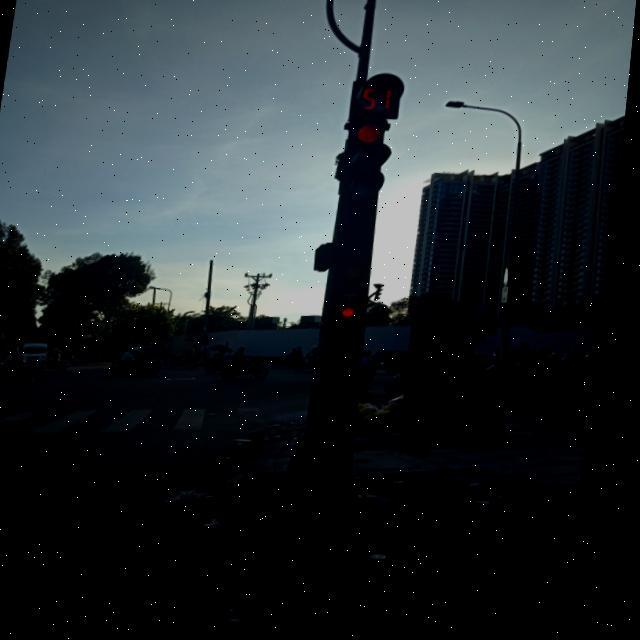Red: (340, 118, 404, 215), (325, 292, 379, 364)
